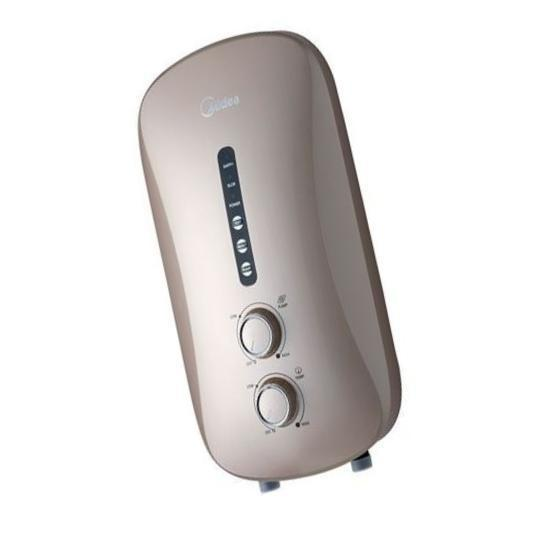Ducha: (103, 0, 459, 504)
